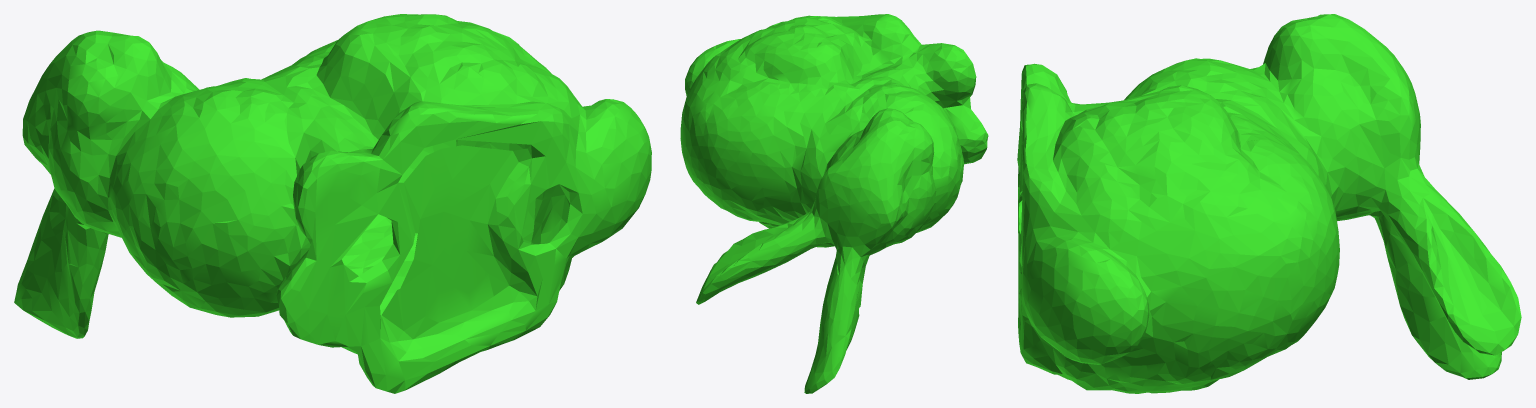
The model's file is bunny.dae.
3 views of the same model, side by side, from view 1: azimuth 30°, elevation 25°; view 2: azimuth 150°, elevation 25°; view 3: azimuth 270°, elevation 25° (orthographic). The views are drawn at different scales.
Parts seen in each view (by area): view 1: bunny; view 2: bunny; view 3: bunny.
Part boxes in pixels (bbox=[...]): bunny: bbox=[14, 14, 651, 393]; bunny: bbox=[680, 14, 988, 393]; bunny: bbox=[1017, 14, 1521, 393].
Size of the model in its own units: 2.82 by 2.8 by 2.19.
